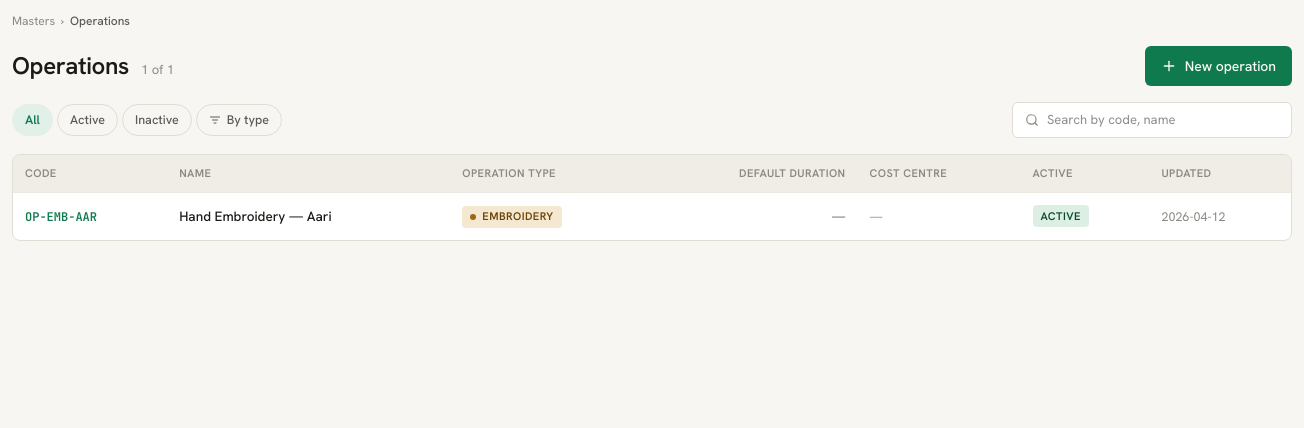
it: OperationsList (live-mode, TASK-TR-E1) › renders the "no operations match" state when a search has no results
Expected: the text "OP-EMB-AAR" is shown, [25,208,97,224]
Type "screen printing" into the search field named "search operations" at (1163, 120), box [1047,110,1279,130]
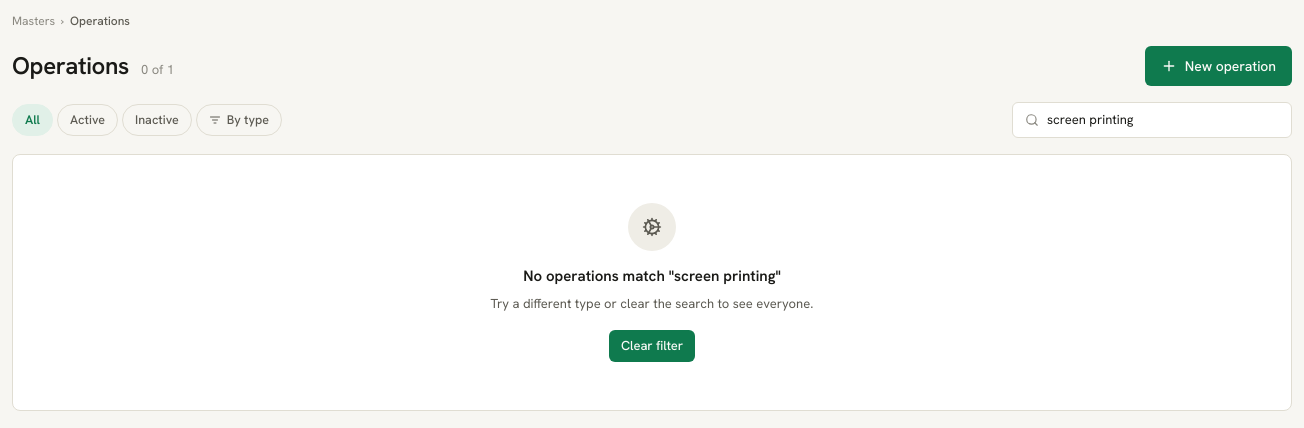
Expected: the heading "No operations match \"screen printing\"" is shown, [523,265,781,288]
Expected: the button "Clear filter" is shown, [609,330,695,362]
